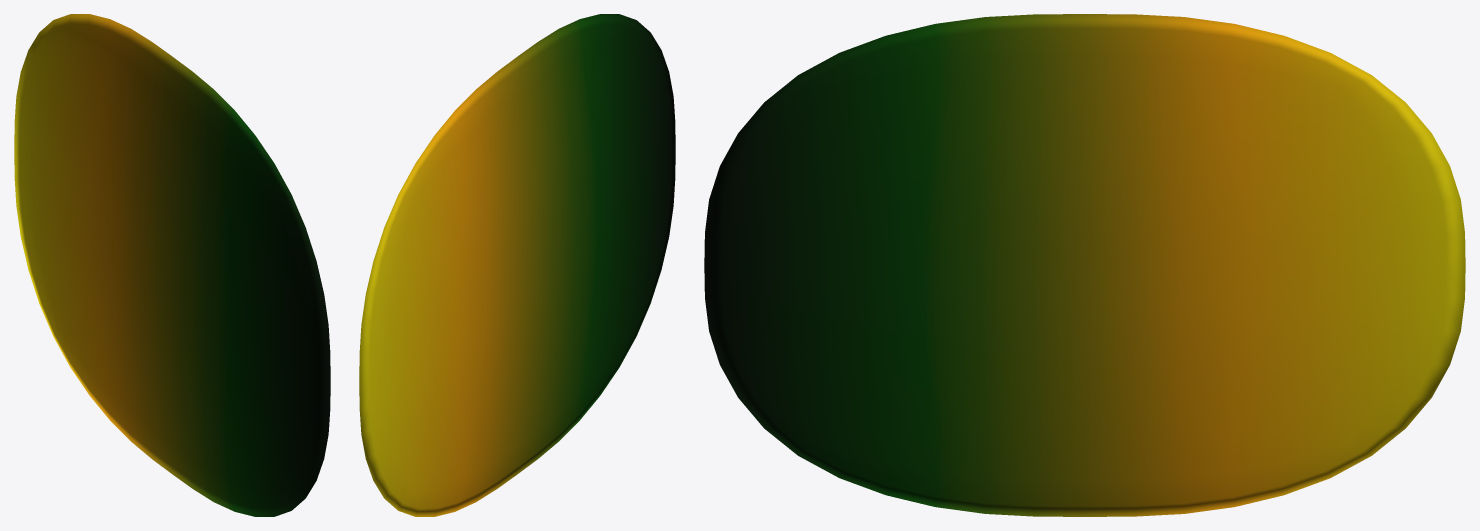
File: Roundcube.fbx
The picture shows the model from 3 angles, left to right: view 1: azimuth 30°, elevation 25°; view 2: azimuth 150°, elevation 25°; view 3: azimuth 270°, elevation 25°; orthographic projection. The views are drawn at different scales.
Parts seen in each view (by area): view 1: Roundcube; view 2: Roundcube; view 3: Roundcube.
Boxes of the visible parts, x1,y1,x2,y2 form: Roundcube: [14, 14, 330, 516]; Roundcube: [359, 14, 675, 516]; Roundcube: [704, 14, 1465, 516].
Bounding box in the file's own units: 9.08 × 135 × 185.
